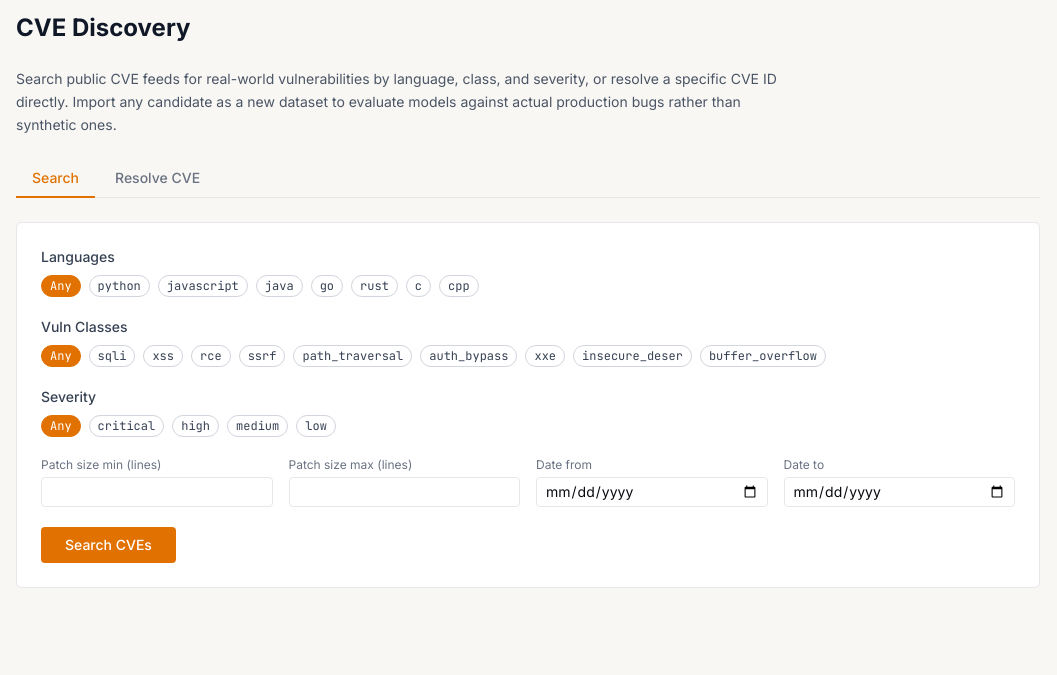
it: CVEDiscovery — Search tab: empty state › shows empty-state message when search returns no candidates and no issues
The width and height of the screenshot is (1057, 675).
Click the button "Search CVEs".
click(108, 545)  # box left=41, top=527, right=176, bottom=563
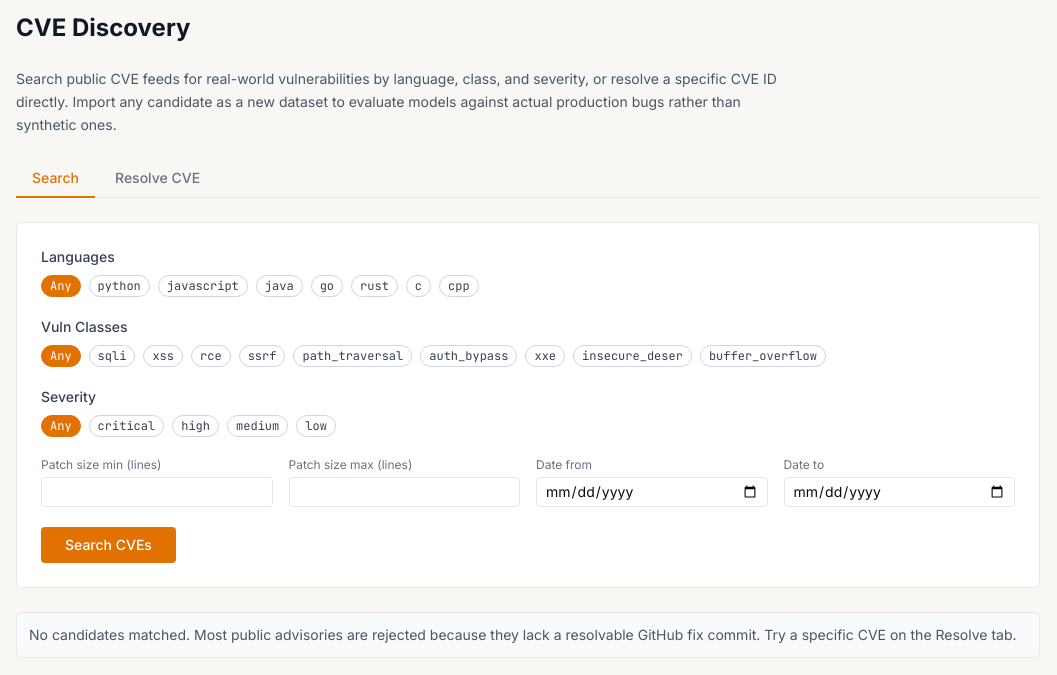
Expected: the text "No candidates matched" is shown, left=29, top=626, right=1016, bottom=643
